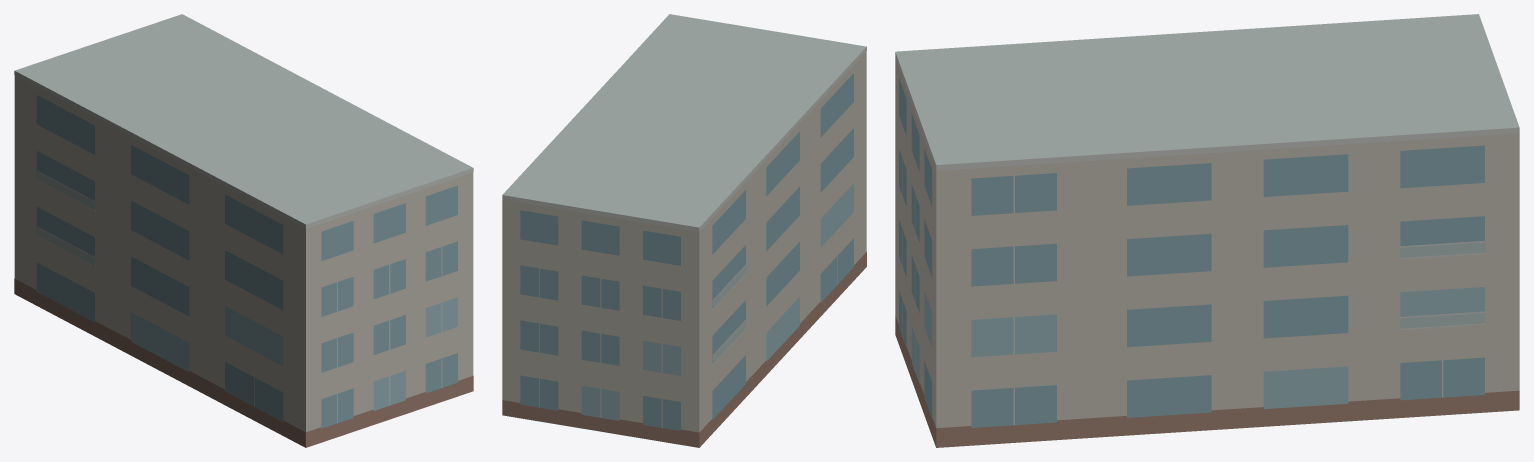
File: residential-d3d83763-281b-4506-b35a-39a10d058428.glb
3 renders of one model, left to right at view 1: azimuth 30°, elevation 25°; view 2: azimuth 150°, elevation 25°; view 3: azimuth 270°, elevation 25°, orthographic. The views are drawn at different scales.
Visible parts, largest first — view 1: residential-d3d83763-281b-4506-b35a-39a10d058428.tmp; view 2: residential-d3d83763-281b-4506-b35a-39a10d058428.tmp; view 3: residential-d3d83763-281b-4506-b35a-39a10d058428.tmp.
Part boxes in pixels (bbox=[...]): residential-d3d83763-281b-4506-b35a-39a10d058428.tmp: bbox=[14, 14, 473, 447]; residential-d3d83763-281b-4506-b35a-39a10d058428.tmp: bbox=[502, 14, 866, 447]; residential-d3d83763-281b-4506-b35a-39a10d058428.tmp: bbox=[895, 14, 1519, 447].
Size of the model in its own units: 13.99 by 12.2 by 24.42.
